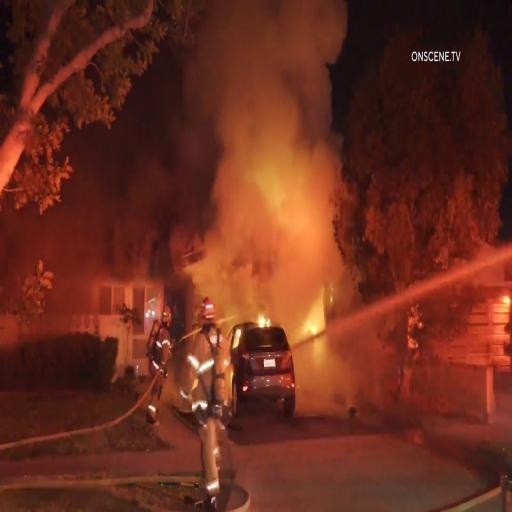fire: (250, 297, 279, 334)
smoke: (148, 88, 338, 281), (212, 5, 340, 94), (304, 343, 364, 407)
